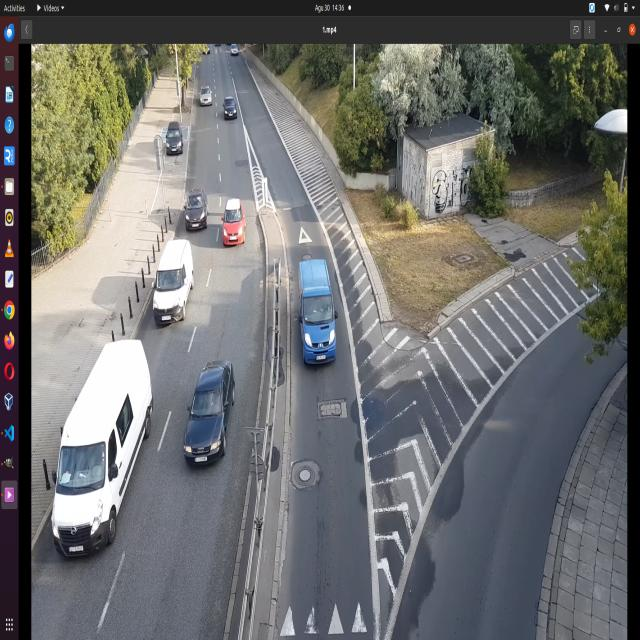person_with_seatbelt: (233, 208, 243, 222)
